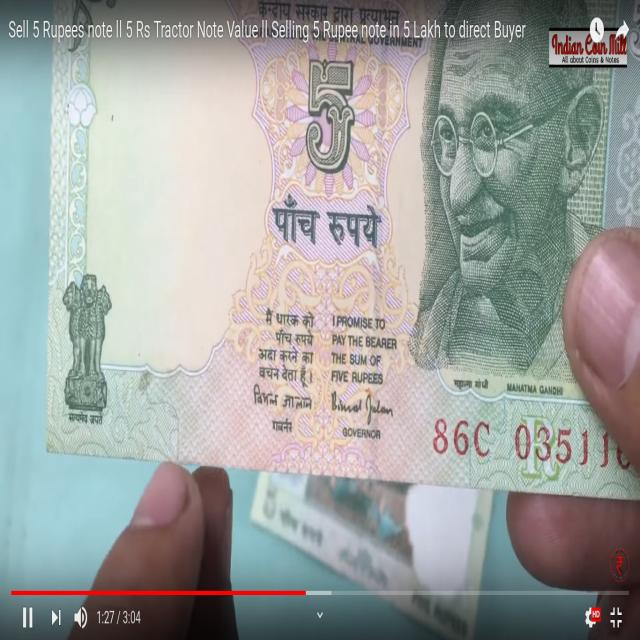5IndianRupees: (53, 22, 634, 459)
